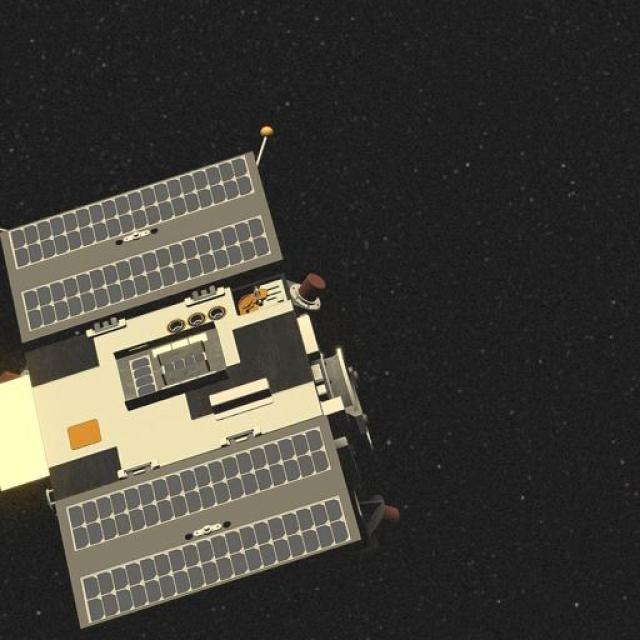proba_2: (10, 127, 346, 626)
